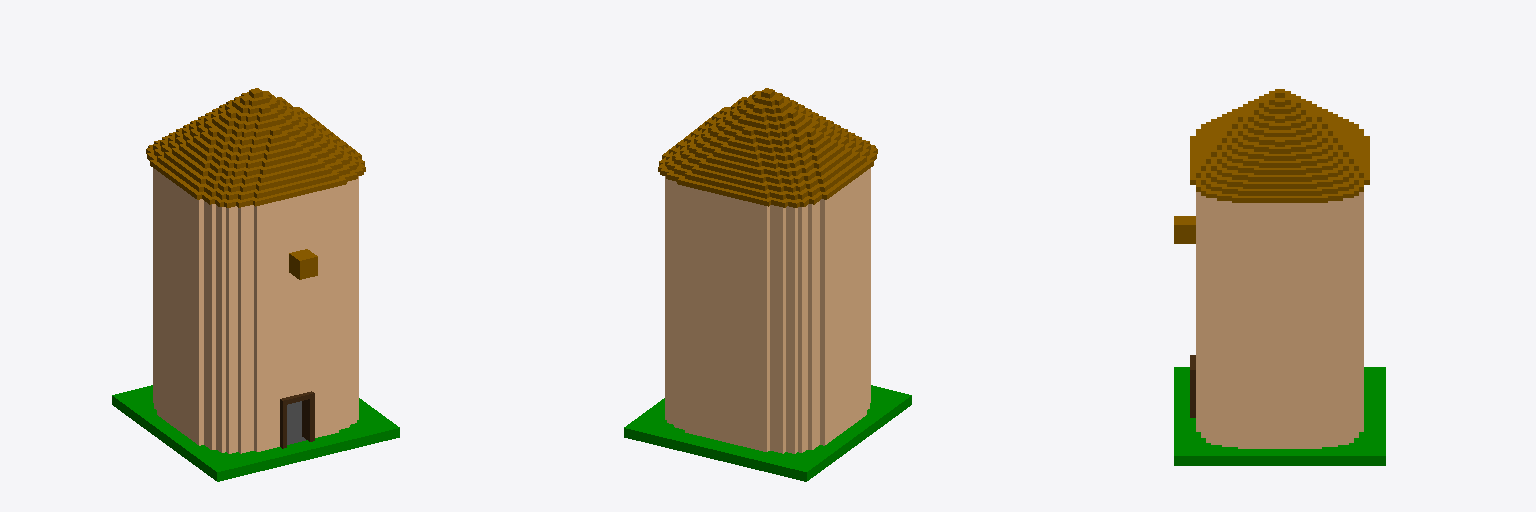
3 renders of one model, left to right at view 1: azimuth 30°, elevation 25°; view 2: azimuth 150°, elevation 25°; view 3: azimuth 270°, elevation 25°, orthographic.
Parts seen in each view (by area): view 1: object 1; view 2: object 1; view 3: object 1.
Boxes of the visible parts, x1=… form: object 1: x1=112, y1=88, x2=399, y2=481; object 1: x1=624, y1=88, x2=911, y2=481; object 1: x1=1174, y1=89, x2=1385, y2=465.
Size of the model in its own units: 4 by 6.9 by 4.
1 materials, 1 textured.